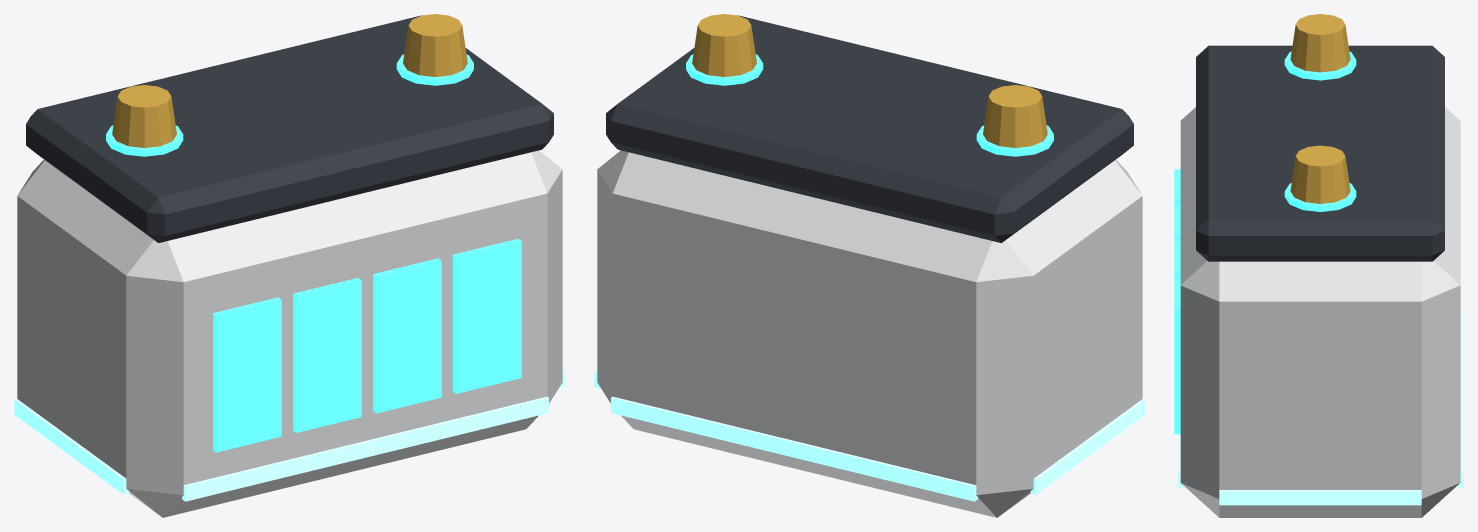
File: battery_space.glb
The picture shows the model from 3 angles, left to right: view 1: azimuth 30°, elevation 25°; view 2: azimuth 150°, elevation 25°; view 3: azimuth 270°, elevation 25°; orthographic projection. The views are drawn at different scales.
Visible parts, largest first — view 1: battery_space; view 2: battery_space; view 3: battery_space.
Boxes of the visible parts, x1,y1,x2,y2 form: battery_space: (14,14,565,517); battery_space: (594,14,1145,517); battery_space: (1174,14,1463,517).
Bounding box in the file's own units: 0.304 × 0.245 × 0.186.
